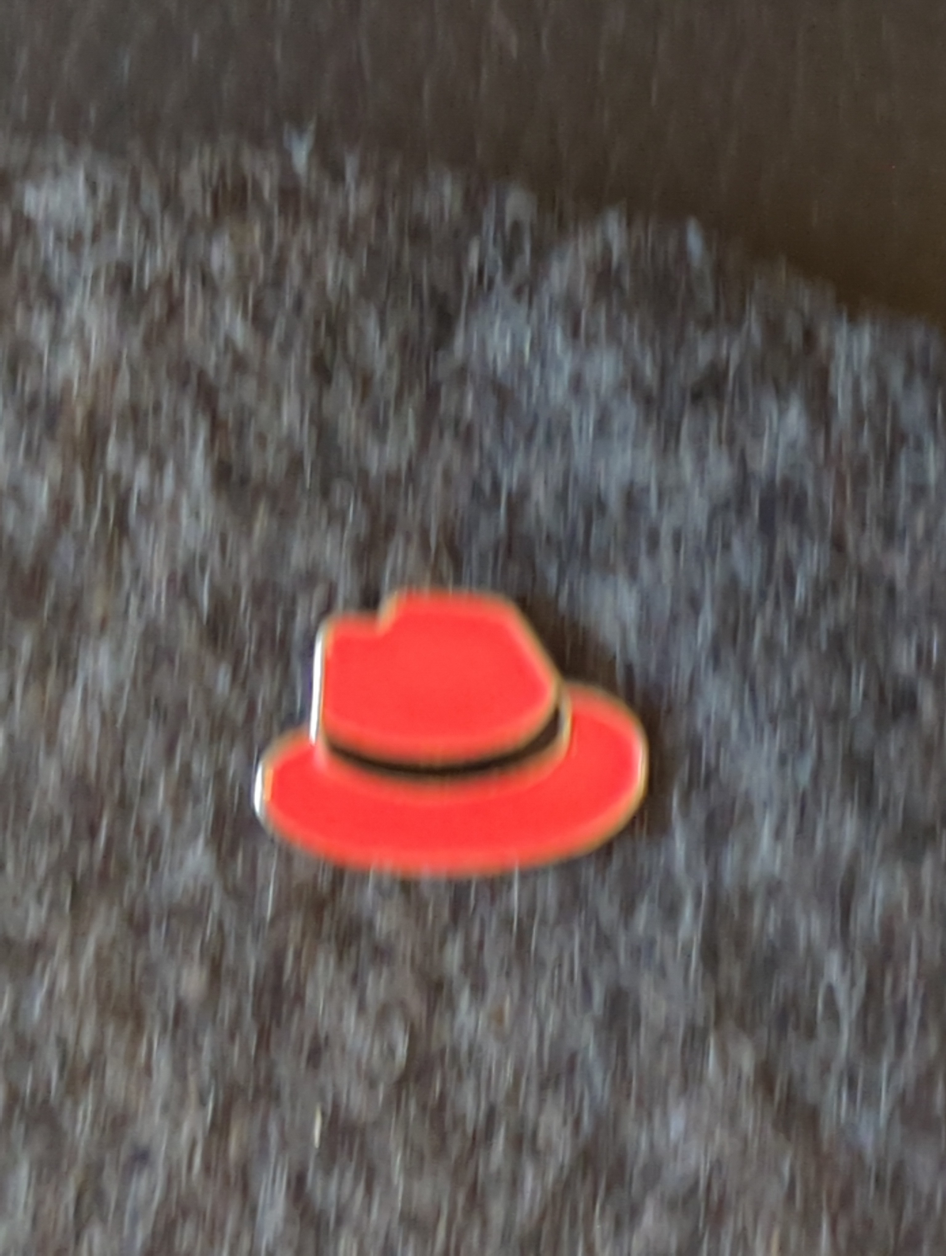Red-Hat: (132, 457, 806, 1016)
